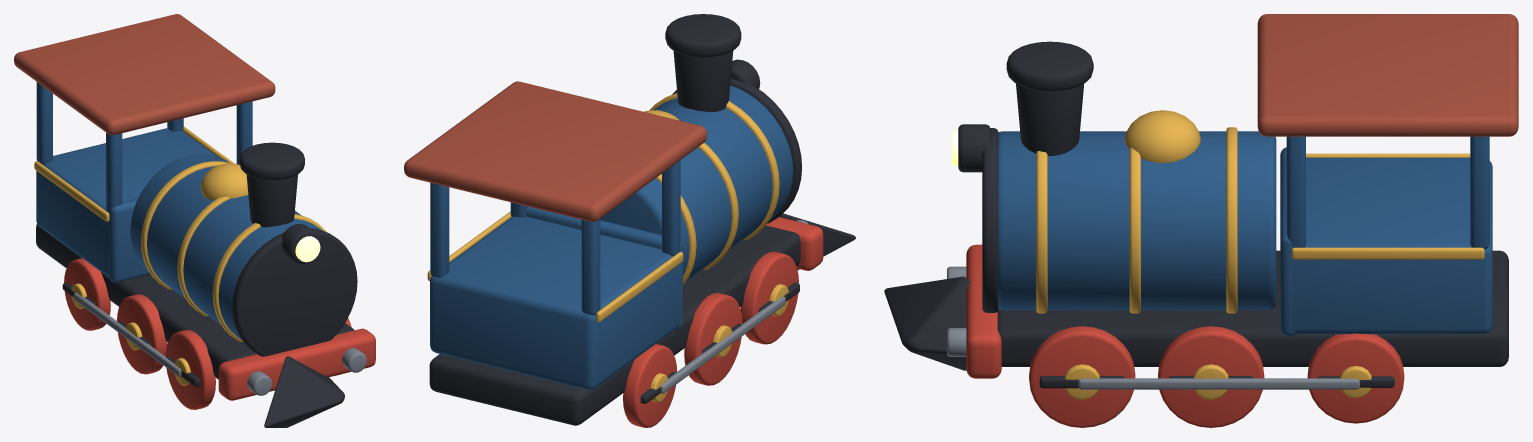
File: locomotiva.glb
3 views of the same model, side by side, from view 1: azimuth 30°, elevation 25°; view 2: azimuth 150°, elevation 25°; view 3: azimuth 270°, elevation 25° (orthographic). The views are drawn at different scales.
Parts seen in each view (by area): view 1: locomotiva_teto, Cylinder.002, Cylinder.003, Cube.002, Cube, Cube.001, Cone, Cylinder.009, Cylinder.011, locomotiva_chamine, Cube.003, Cylinder.007 (+14 smaller); view 2: Cube.002, locomotiva_teto, Cylinder.002, Cube, Cylinder.009, Cylinder.011, locomotiva_chamine, Cylinder.013, Cylinder.007, Cube.005, Cube.008, Cube.003 (+11 smaller); view 3: Cylinder.002, locomotiva_teto, Cube.002, Cube, Cylinder.015, Cylinder.017, Cylinder.019, Cone, locomotiva_chamine, Cylinder.007, locomotiva_bielaD, Cube.001 (+13 smaller).
Part boxes in pixels (x1,y1,x2,y2): locomotiva_teto: (14, 14, 275, 135); Cylinder.002: (130, 154, 321, 339); Cylinder.003: (232, 228, 357, 356); Cube.002: (36, 128, 217, 277); Cube: (36, 224, 354, 379); Cube.001: (218, 328, 375, 400); Cone: (264, 356, 344, 427); Cylinder.009: (165, 330, 215, 409); Cylinder.011: (117, 294, 167, 374); locomotiva_chamine: (246, 174, 297, 227); Cube.003: (109, 198, 150, 282); Cylinder.007: (239, 142, 304, 180); Cube.002: (430, 216, 680, 389); locomotiva_teto: (404, 81, 706, 221); Cylinder.002: (600, 85, 793, 280); Cube: (429, 225, 800, 425); Cylinder.009: (740, 251, 798, 344); Cylinder.011: (684, 293, 742, 385); locomotiva_chamine: (673, 51, 733, 111); Cylinder.013: (623, 344, 677, 427); Cylinder.007: (665, 14, 741, 57); Cube.005: (581, 219, 600, 315); Cube.008: (430, 182, 449, 277); Cube.003: (526, 206, 682, 330); Cylinder.002: (998, 131, 1276, 310); locomotiva_teto: (1257, 14, 1518, 136); Cube.002: (1292, 157, 1492, 334); Cube: (997, 250, 1508, 366); Cylinder.015: (1029, 326, 1135, 427); Cylinder.017: (1158, 326, 1264, 427); Cylinder.019: (1307, 333, 1404, 423); Cone: (884, 276, 970, 370); locomotiva_chamine: (1016, 83, 1083, 155); Cylinder.007: (1006, 41, 1093, 91); locomotiva_bielaD: (1078, 378, 1359, 389); Cube.001: (966, 244, 1001, 378).
Size of the model in its own units: 1.6 by 2.22 by 3.94.
